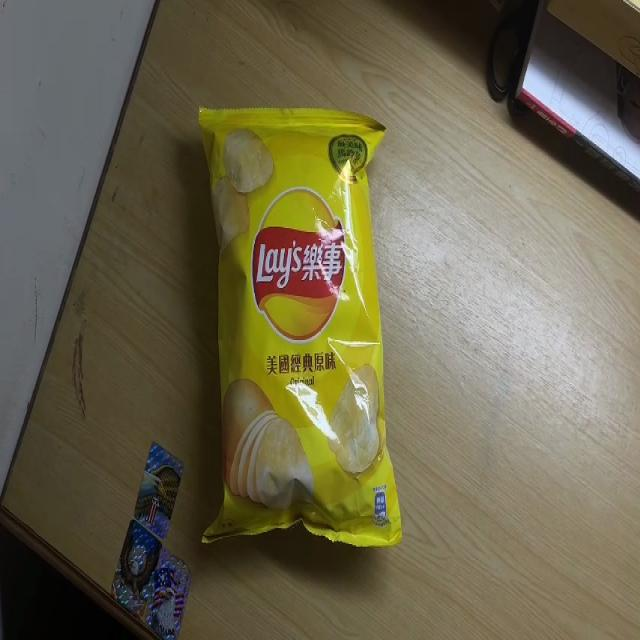Lay-s-original: (198, 101, 404, 548)
